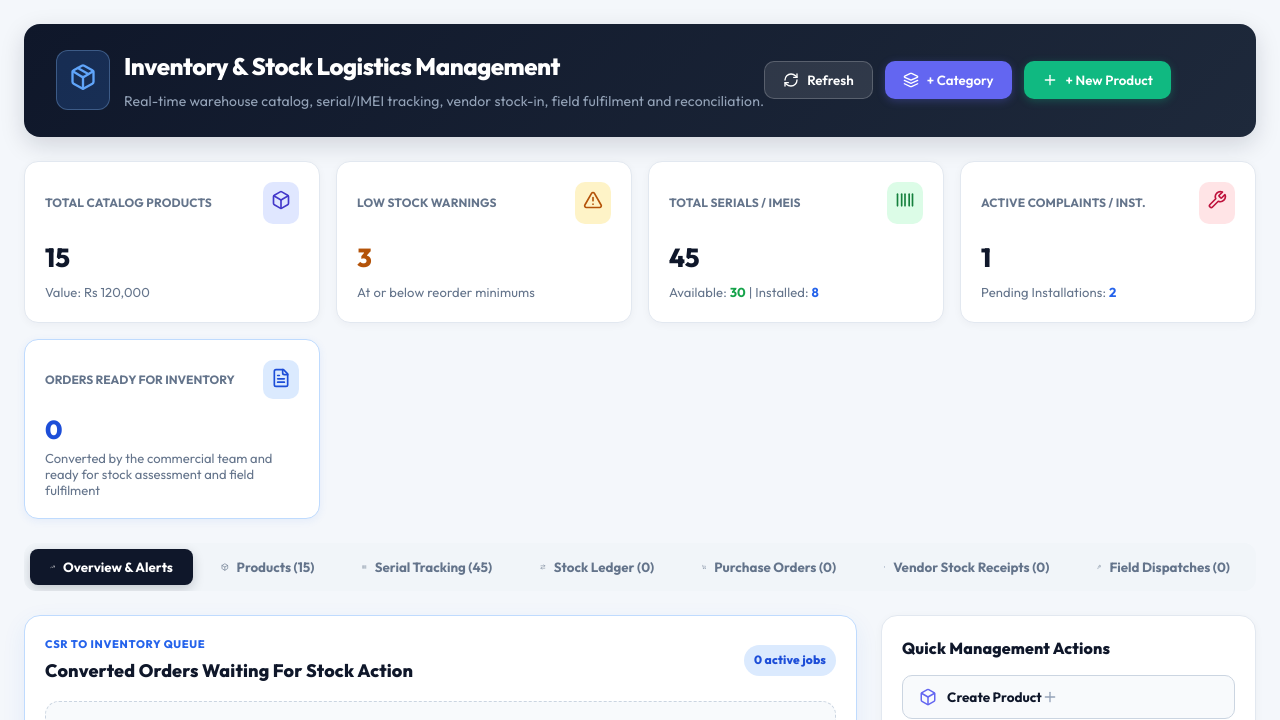
Scenario: Inventory Page › switches tabs and displays product catalog
Click the button "Products (15)" at (268, 567), box [201, 549, 334, 585]
(page scrolled)
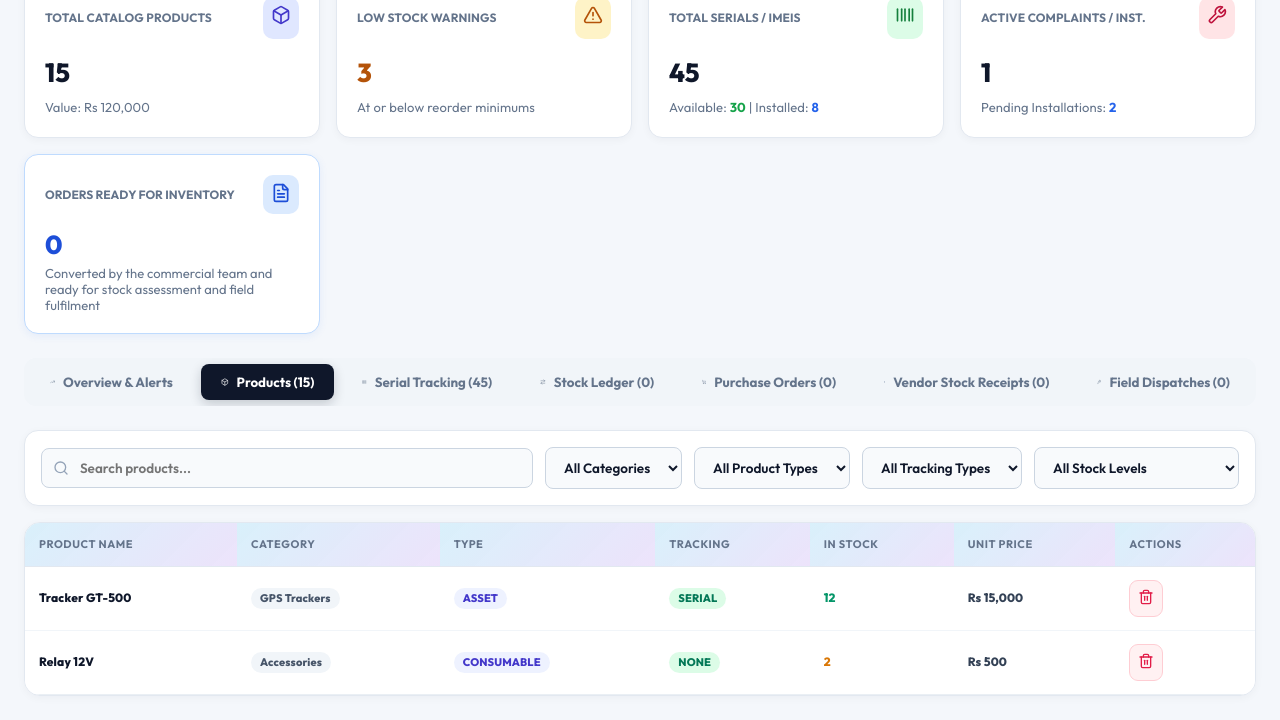
Expected: the text "Relay 12V" is shown, [39, 654, 94, 670]
Expected: the text "Tracker GT-500" is shown, [39, 590, 132, 606]
